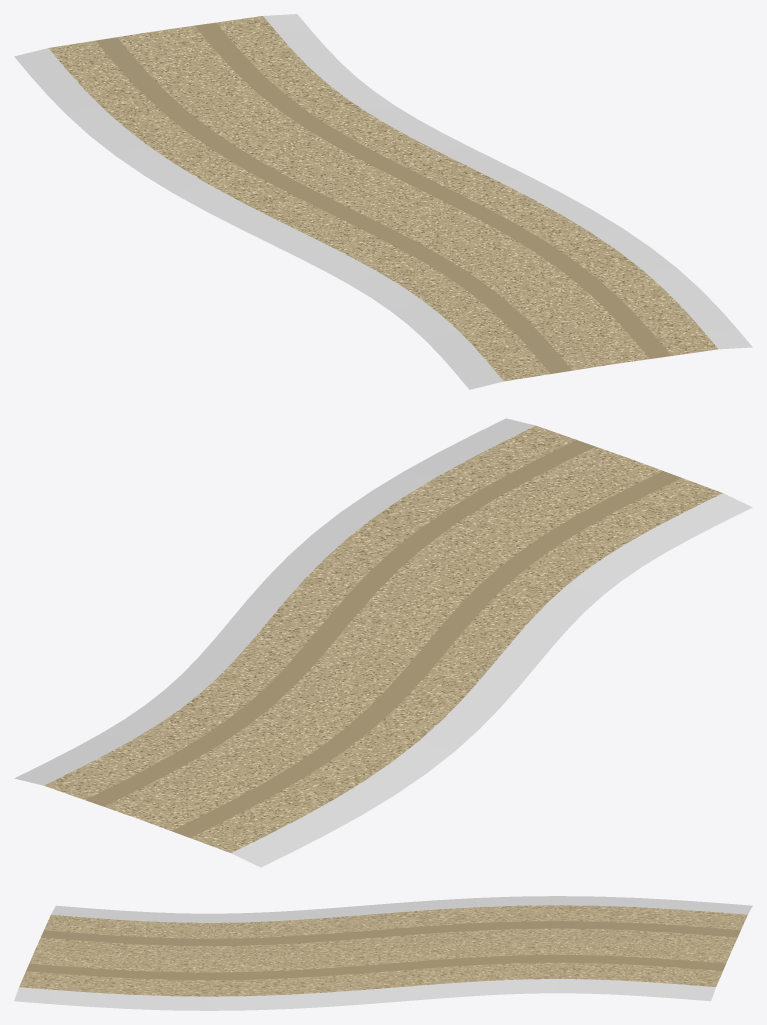
Rendered from ENV_Road_Gravel.fbx.
3 renders of one model, top to bottom at view 1: azimuth 30°, elevation 25°; view 2: azimuth 150°, elevation 25°; view 3: azimuth 270°, elevation 25°, orthographic. The views are drawn at different scales.
Parts seen in each view (by area): view 1: ENV_Road_Gravel_Surface, ENV_Road_Gravel_Surface_Edges; view 2: ENV_Road_Gravel_Surface, ENV_Road_Gravel_Surface_Edges; view 3: ENV_Road_Gravel_Surface, ENV_Road_Gravel_Surface_Edges.
Part boxes in pixels (x1,y1,x2,y2): ENV_Road_Gravel_Surface: [48, 16, 717, 381]; ENV_Road_Gravel_Surface_Edges: [14, 14, 752, 389]; ENV_Road_Gravel_Surface: [44, 425, 722, 852]; ENV_Road_Gravel_Surface_Edges: [14, 418, 752, 867]; ENV_Road_Gravel_Surface: [19, 905, 747, 996]; ENV_Road_Gravel_Surface_Edges: [14, 896, 752, 1010].
Bounding box in the file's own units: 7.8 × 0.1 × 21.2.
Materials: 2 (1 with a texture image).
